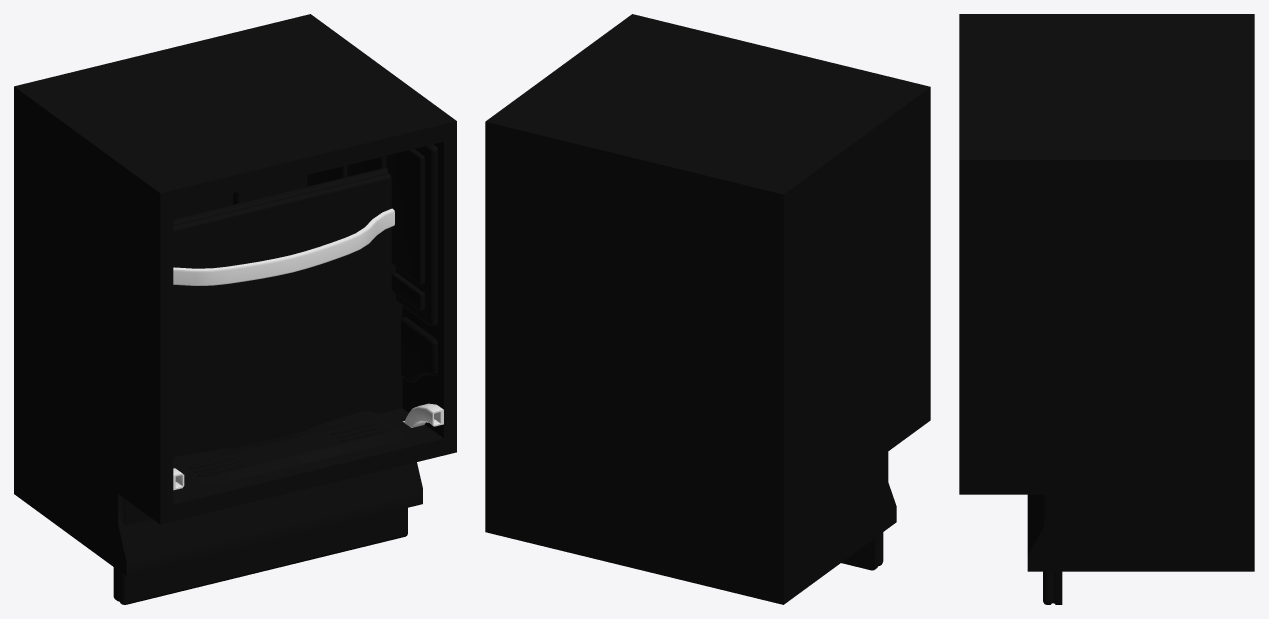
The model's file is dishwasher_FP9.obj.
3 renders of one model, left to right at view 1: azimuth 30°, elevation 25°; view 2: azimuth 150°, elevation 25°; view 3: azimuth 270°, elevation 25°, orthographic.
Parts seen in each view (by area): view 1: dishwasher_FP9_17a26a8b, dishwasher_door_FP9_4f5542ed; view 2: dishwasher_FP9_17a26a8b, dishwasher_door_FP9_4f5542ed; view 3: dishwasher_FP9_17a26a8b, dishwasher_door_FP9_4f5542ed.
Boxes of the visible parts, x1,y1,x2,y2 form: dishwasher_FP9_17a26a8b: (14, 14, 456, 576); dishwasher_door_FP9_4f5542ed: (113, 167, 407, 604); dishwasher_FP9_17a26a8b: (485, 14, 930, 604); dishwasher_door_FP9_4f5542ed: (841, 532, 883, 570); dishwasher_FP9_17a26a8b: (959, 14, 1254, 571); dishwasher_door_FP9_4f5542ed: (1043, 494, 1062, 604).
Size of the model in its own units: 0.6504 by 0.9331 by 0.5555.
